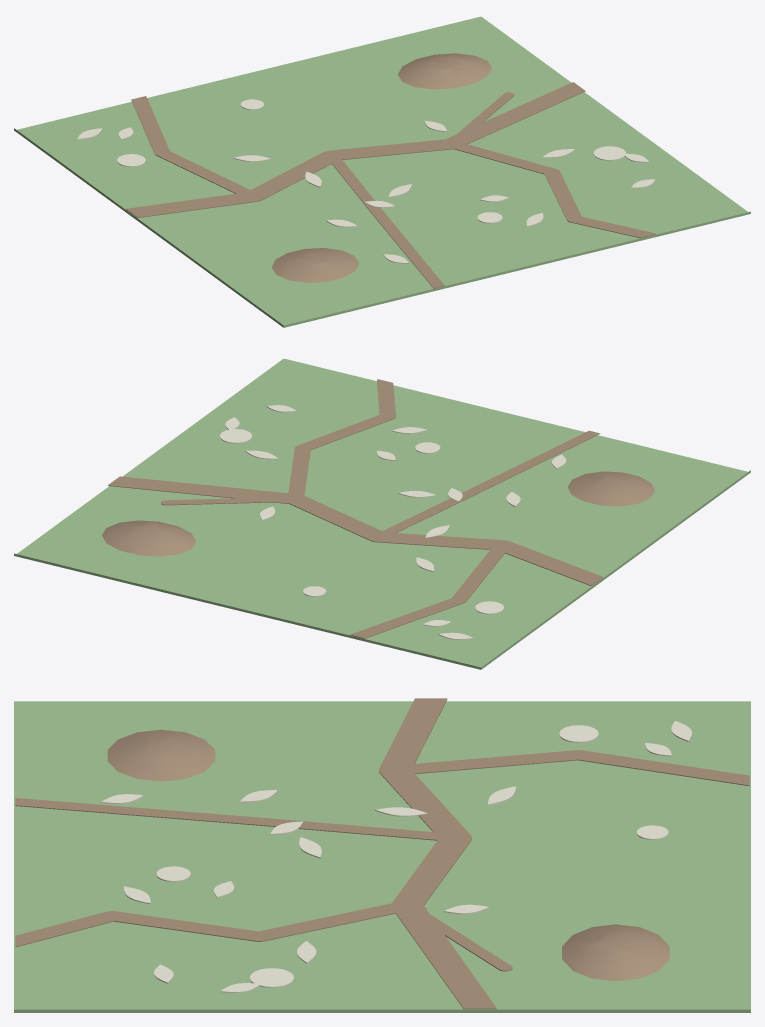
3 views of the same model, one above another, from view 1: azimuth 30°, elevation 25°; view 2: azimuth 150°, elevation 25°; view 3: azimuth 270°, elevation 25° (orthographic). The views are drawn at different scales.
Visible parts, largest first — view 1: Safety_Pad, Root_Inlay, Terrain, Leafprint_Inlay; view 2: Safety_Pad, Root_Inlay, Terrain, Leafprint_Inlay; view 3: Safety_Pad, Root_Inlay, Terrain, Leafprint_Inlay.
Boxes of the visible parts, box(x1,y1,x2,y2) form: Safety_Pad: box(14, 16, 750, 327); Root_Inlay: box(126, 82, 655, 288); Terrain: box(271, 53, 492, 282); Leafprint_Inlay: box(77, 99, 655, 263); Safety_Pad: box(14, 358, 750, 669); Root_Inlay: box(108, 379, 603, 638); Terrain: box(102, 471, 654, 556); Leafprint_Inlay: box(220, 405, 566, 639); Safety_Pad: box(14, 701, 750, 1012); Root_Inlay: box(15, 698, 749, 1009); Terrain: box(107, 729, 669, 981); Leafprint_Inlay: box(101, 721, 692, 992).
Size of what is drawn, in the model's own units: 6 by 0.12 by 6.
